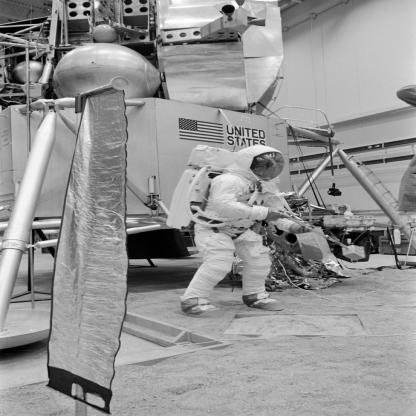Helmet: (227, 147, 290, 180)
